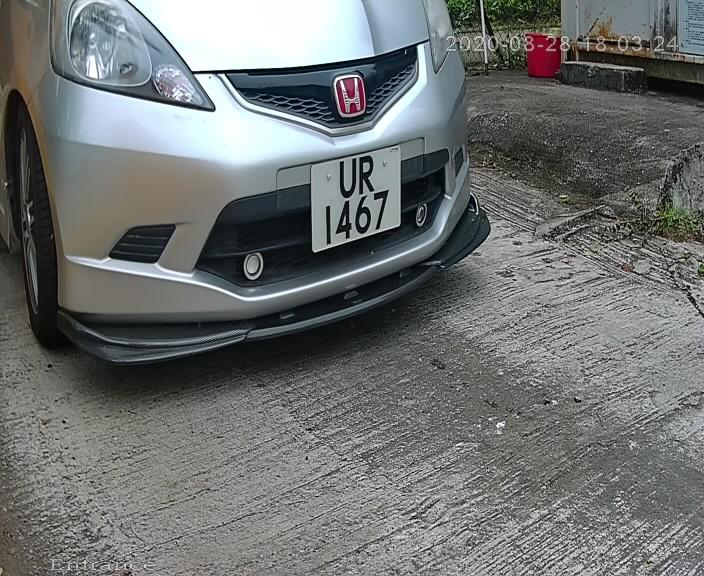Car: (1, 3, 535, 391)
License Plate: (299, 134, 409, 263)
